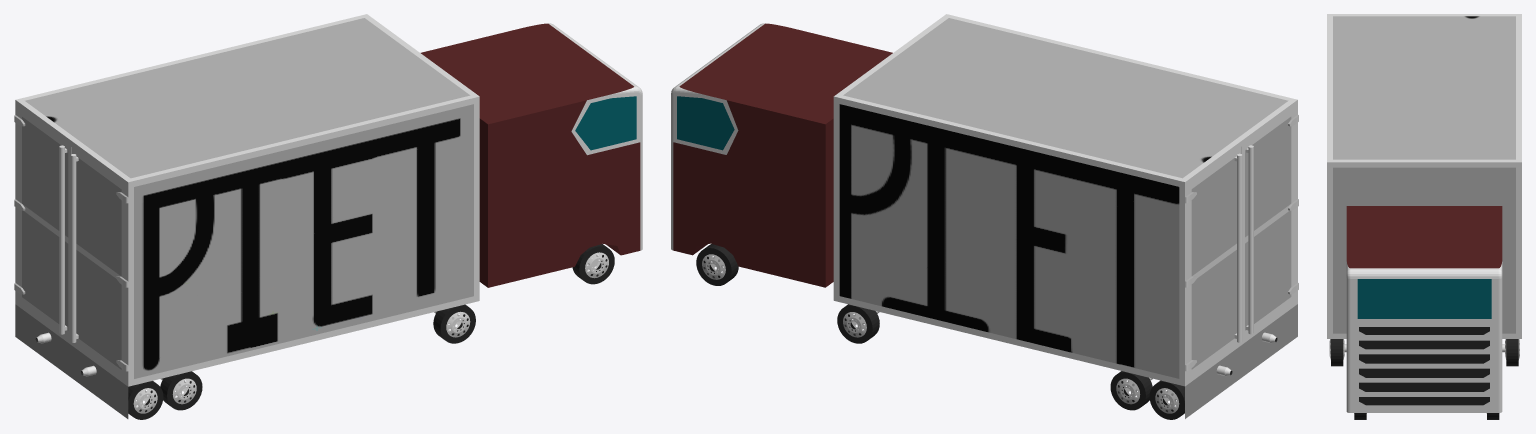
The model's file is Truck-1blend (1).glb.
The picture shows the model from 3 angles, left to right: view 1: azimuth 30°, elevation 25°; view 2: azimuth 150°, elevation 25°; view 3: azimuth 270°, elevation 25°; orthographic projection. The views are drawn at different scales.
Parts seen in each view (by area): view 1: Trailer, Car, Right Door, Left Door, Tire.005, Tire.002, Tire.007, Tire.001; view 2: Trailer, Car, Left Door, Right Door, Tire.006, Tire.004, Tire.003, Tire; view 3: Trailer, Car, Tire.005, Tire.004.
Part boxes in pixels (<box>): Trailer: <box>15,14,479,418</box>; Car: <box>421,23,642,287</box>; Right Door: <box>71,147,128,378</box>; Left Door: <box>14,108,71,338</box>; Tire.005: <box>433,304,475,343</box>; Tire.002: <box>160,371,202,410</box>; Tire.007: <box>572,244,614,284</box>; Tire.001: <box>128,381,163,419</box>; Trailer: <box>833,14,1297,418</box>; Car: <box>671,23,892,287</box>; Left Door: <box>1185,147,1242,377</box>; Right Door: <box>1241,108,1298,338</box>; Tire.006: <box>696,244,738,285</box>; Tire.004: <box>837,304,879,343</box>; Tire.003: <box>1110,371,1152,410</box>; Tire: <box>1149,380,1184,419</box>; Trailer: <box>1327,14,1521,338</box>; Car: <box>1346,206,1502,412</box>; Tire.005: <box>1329,339,1344,366</box>; Tire.004: <box>1505,339,1519,366</box>.
Bounding box in the file's own units: 13.81 × 5.96 × 5.
8 materials, 1 textured.
